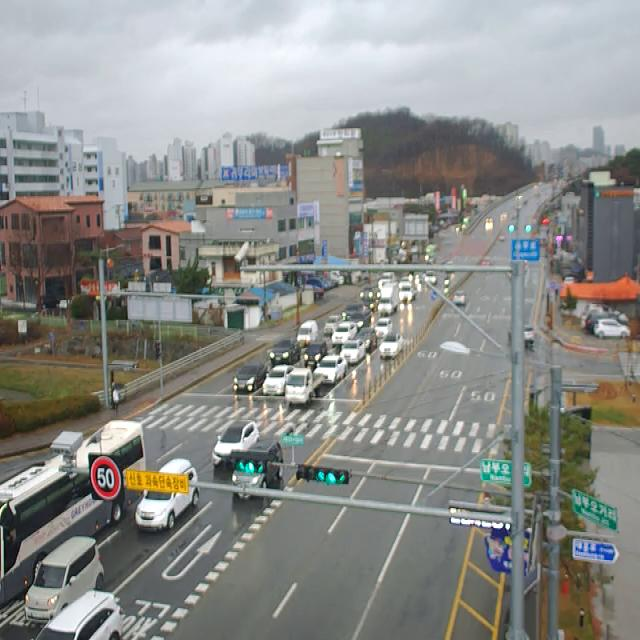Bus: (0, 420, 148, 608), (424, 244, 438, 260)
Car: (25, 537, 104, 622), (136, 458, 200, 532), (31, 592, 122, 640), (213, 420, 260, 467), (581, 305, 629, 328), (234, 362, 268, 392), (263, 365, 295, 394), (585, 310, 627, 332), (314, 356, 348, 383), (594, 319, 630, 339), (270, 340, 301, 363), (332, 322, 357, 348), (304, 341, 327, 368), (509, 324, 534, 348), (340, 339, 365, 363), (379, 334, 403, 358), (296, 321, 318, 346), (356, 327, 377, 352), (350, 309, 372, 331), (342, 302, 364, 320), (375, 317, 393, 337), (324, 315, 340, 335), (400, 285, 417, 303), (379, 272, 397, 289), (360, 286, 376, 300), (453, 291, 466, 306), (425, 270, 437, 285), (399, 277, 412, 290), (363, 299, 376, 311), (444, 260, 456, 272), (480, 257, 492, 265), (426, 255, 436, 264)
Truck: (232, 440, 284, 498), (286, 369, 324, 404), (377, 281, 398, 314)
